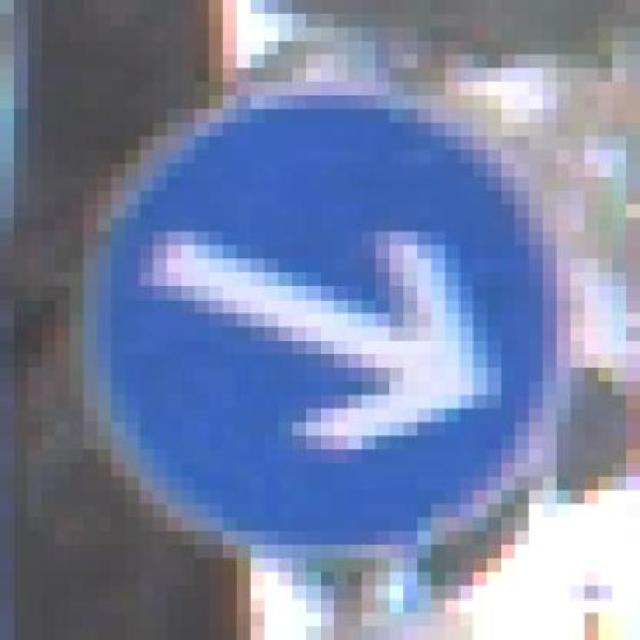Keep-Right: (56, 68, 598, 572)
